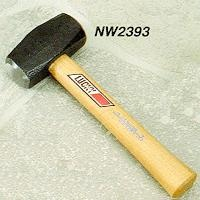hammer: (7, 12, 196, 196)
